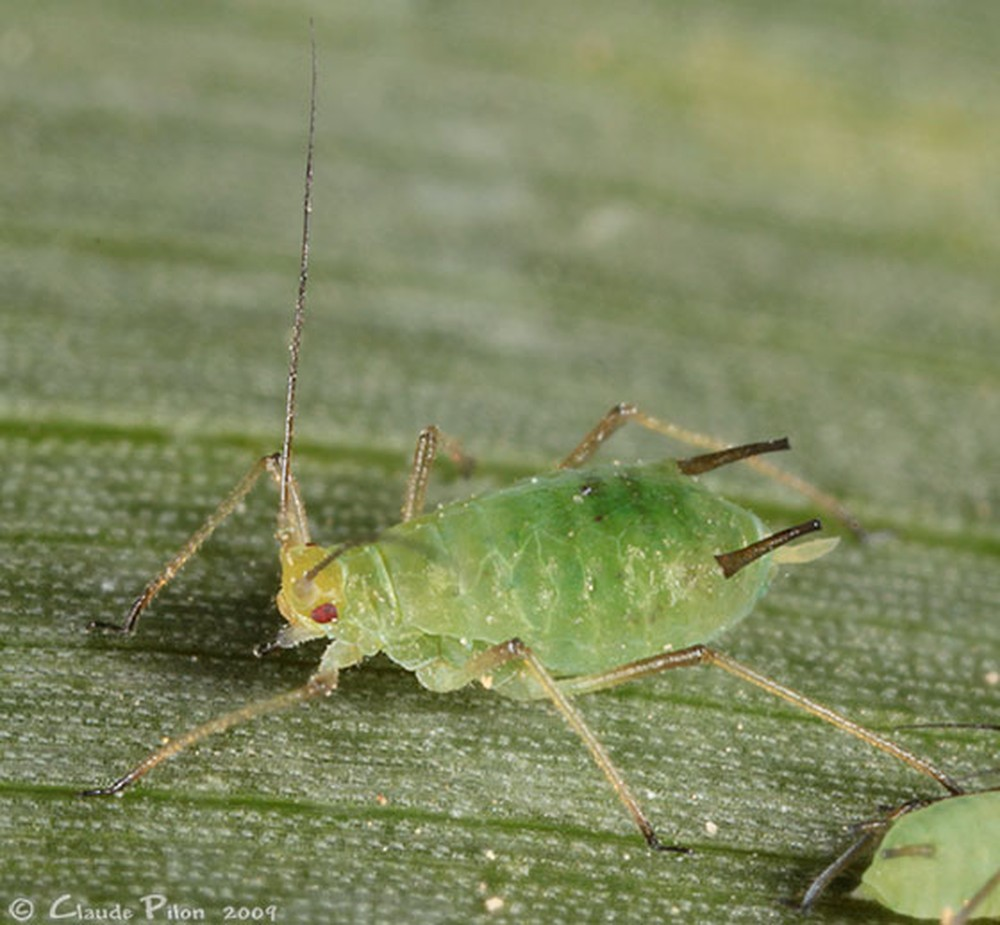Pulgon: (159, 372, 982, 824)
